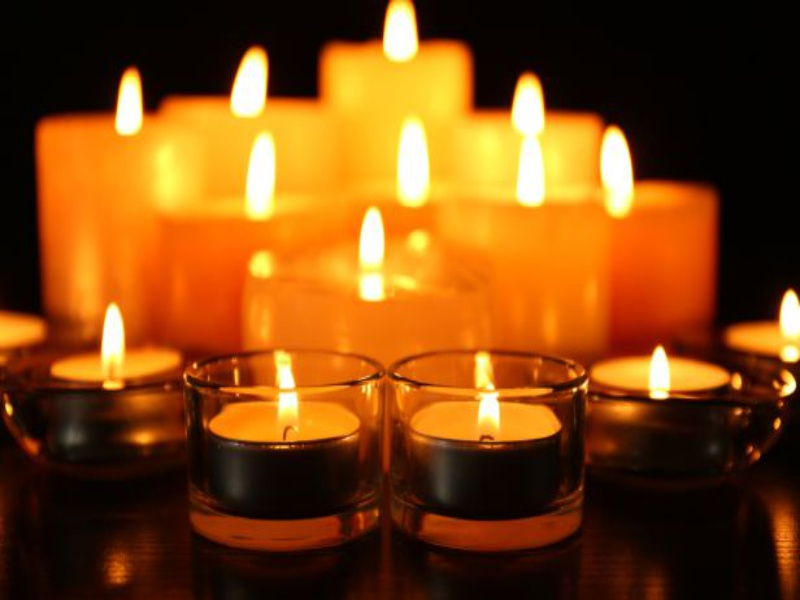fire: (391, 112, 440, 212), (597, 120, 642, 222), (107, 51, 149, 140), (475, 359, 516, 446), (232, 41, 276, 122), (246, 129, 284, 220), (514, 65, 551, 147), (514, 137, 554, 209), (356, 198, 388, 282), (644, 336, 682, 406), (101, 297, 131, 384), (273, 360, 307, 435), (381, 3, 424, 57), (776, 284, 800, 341)
